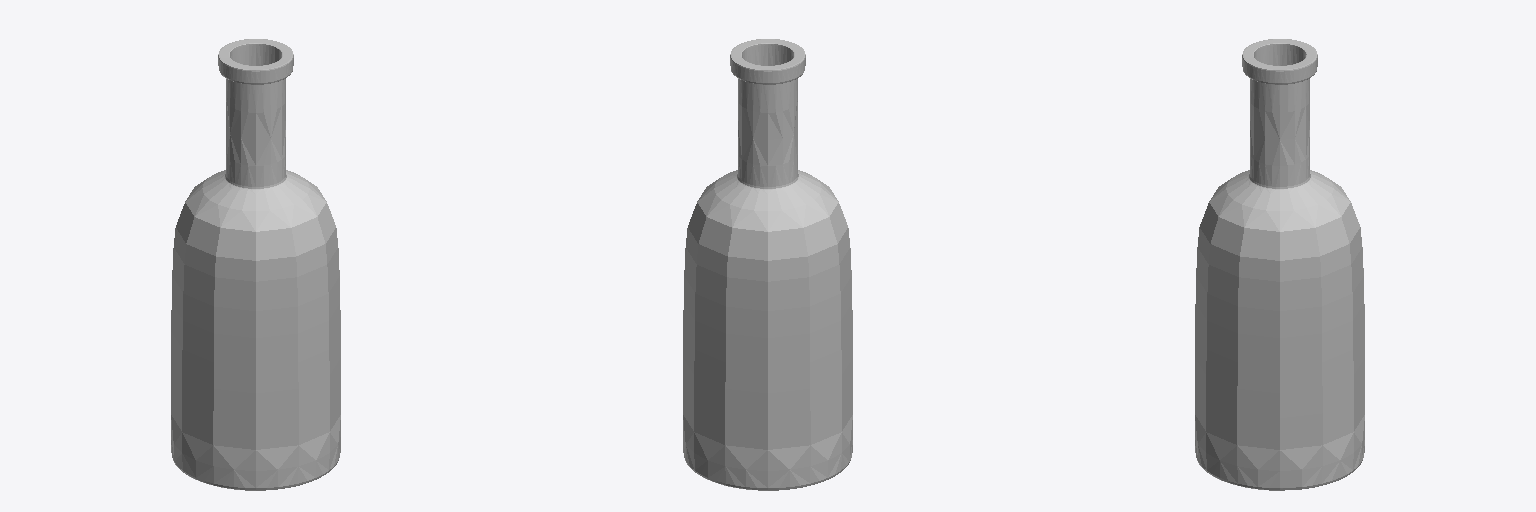
File: piaoLiuPing.obj
3 views of the same model, side by side, from view 1: azimuth 30°, elevation 25°; view 2: azimuth 150°, elevation 25°; view 3: azimuth 270°, elevation 25° (orthographic).
Visible parts, largest first — view 1: nurbsToPoly1; view 2: nurbsToPoly1; view 3: nurbsToPoly1.
Boxes of the visible parts, <box> form: nurbsToPoly1: <box>171,39,340,490</box>; nurbsToPoly1: <box>683,39,852,490</box>; nurbsToPoly1: <box>1195,39,1364,490</box>.
Bounding box in the file's own units: 0.9637 × 2.52 × 0.9637.